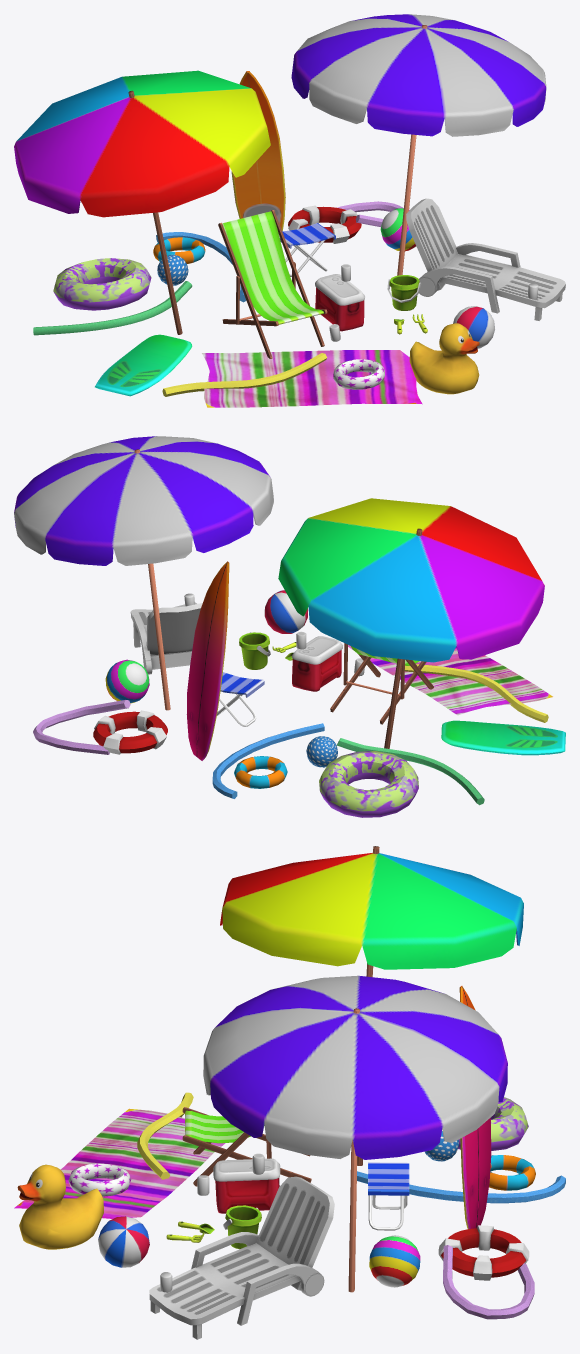
Rendered from Beach Props.FBX.
3 views of the same model, one above another, from view 1: azimuth 30°, elevation 25°; view 2: azimuth 150°, elevation 25°; view 3: azimuth 270°, elevation 25° (orthographic). The views are drawn at different scales.
Visible parts, largest first — view 1: 4__UniqueID_6, 2__UniqueID_6, 22__UniqueID_6, 0__Beach_Props, 6__UniqueID_6, 24__Floaters, 18__UniqueID_6, 36__UniqueID_201, 20__UniqueID_6, 16__UniqueID_6, 32__UniqueID_201, 40__UniqueID_201 (+10 smaller); view 2: 4__UniqueID_6, 2__UniqueID_6, 18__UniqueID_6, 24__Floaters, 22__UniqueID_6, 20__UniqueID_6, 0__Beach_Props, 32__UniqueID_201, 16__UniqueID_6, 6__UniqueID_6, 46__UniqueID_201, 30__UniqueID_201 (+8 smaller); view 3: 2__UniqueID_6, 4__UniqueID_6, 0__Beach_Props, 22__UniqueID_6, 36__UniqueID_201, 32__UniqueID_201, 16__UniqueID_6, 18__UniqueID_6, 6__UniqueID_6, 30__UniqueID_201, 26__UniqueID_201, 8__UniqueID_6 (+7 smaller).
Boxes of the visible parts, x1,y1,x2,y2 form: 4__UniqueID_6: (14, 70, 270, 334); 2__UniqueID_6: (291, 14, 546, 275); 22__UniqueID_6: (202, 350, 422, 407); 0__Beach_Props: (406, 198, 565, 320); 6__UniqueID_6: (218, 210, 327, 358); 24__Floaters: (53, 258, 151, 310); 18__UniqueID_6: (231, 71, 285, 230); 36__UniqueID_201: (409, 323, 479, 394); 20__UniqueID_6: (95, 334, 192, 396); 16__UniqueID_6: (315, 274, 364, 331); 32__UniqueID_201: (288, 205, 361, 243); 40__UniqueID_201: (162, 353, 327, 396); 4__UniqueID_6: (278, 498, 544, 748); 2__UniqueID_6: (14, 436, 273, 710); 18__UniqueID_6: (186, 561, 229, 760); 24__Floaters: (319, 751, 418, 817); 22__UniqueID_6: (348, 645, 552, 715); 20__UniqueID_6: (441, 720, 565, 755); 0__Beach_Props: (130, 602, 202, 674); 32__UniqueID_201: (93, 710, 167, 754); 16__UniqueID_6: (292, 636, 342, 691); 6__UniqueID_6: (330, 643, 433, 724); 46__UniqueID_201: (33, 700, 130, 754); 30__UniqueID_201: (105, 659, 149, 703); 2__UniqueID_6: (203, 975, 507, 1292); 4__UniqueID_6: (220, 846, 523, 1165); 0__Beach_Props: (149, 1176, 334, 1339); 22__UniqueID_6: (14, 1108, 225, 1218); 36__UniqueID_201: (17, 1164, 103, 1249); 32__UniqueID_201: (438, 1225, 529, 1280); 16__UniqueID_6: (213, 1158, 280, 1213); 18__UniqueID_6: (459, 986, 491, 1228); 6__UniqueID_6: (182, 1107, 311, 1186); 30__UniqueID_201: (369, 1235, 420, 1287); 26__UniqueID_201: (98, 1216, 149, 1267); 8__UniqueID_6: (368, 1162, 409, 1230).
Size of the model in its own units: 1020 by 494 by 829.
